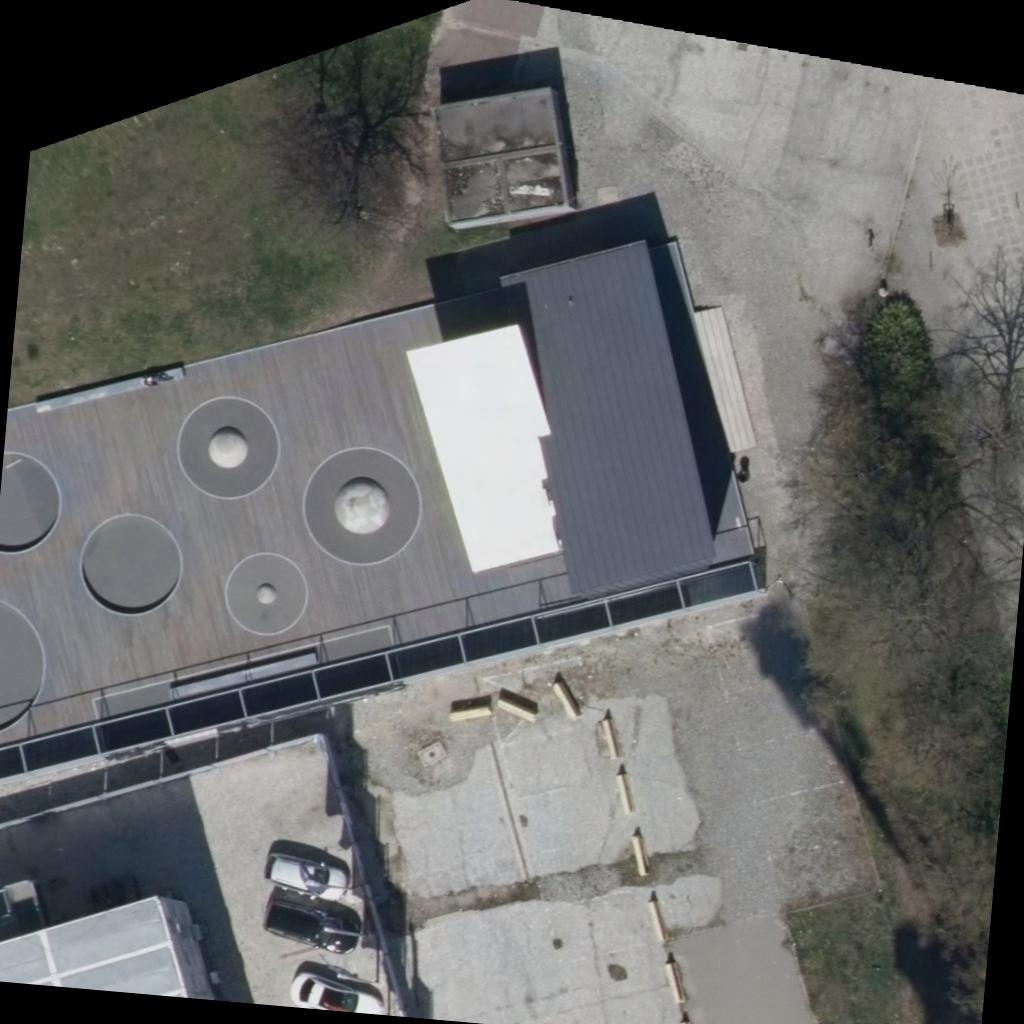samochod_osobowy: (261, 887, 363, 954), (265, 845, 351, 900), (288, 968, 386, 1014)
